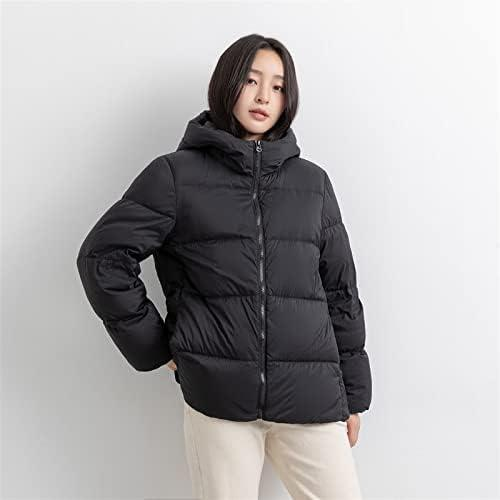coat: (73, 108, 376, 427)
trousers: (184, 398, 361, 500)
